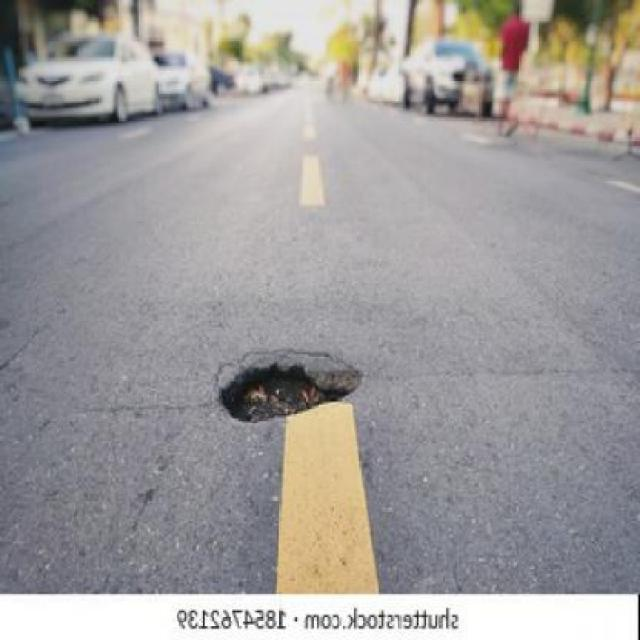pothole: (210, 345, 366, 430)
